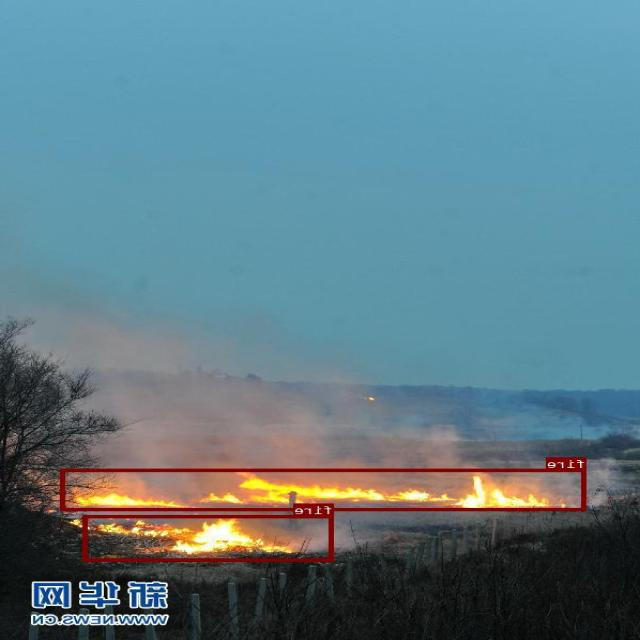fire: (61, 468, 587, 511), (83, 514, 334, 560)
